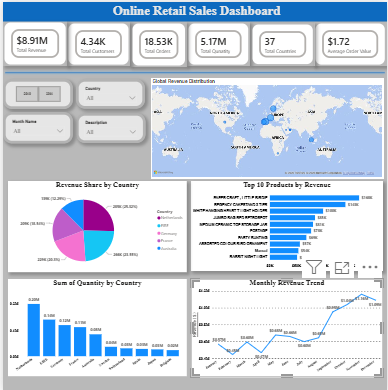

The dashboard page shown, as its layout file describes it:
{"tool":"powerbi","page":{"name":"DASHBOARD ","canvas":[1280,1300],"ordinal":5},"visuals":[{"type":"lineChart","title":" Monthly Revenue Trend ","fields":{"Y":["Sum(Online Retail.Revenue)"],"Category":["Online Retail.InvoiceDate.Variation.Date Hierarchy.Month"]},"box":[626,922,640,328],"z":0},{"type":"slicer","fields":{"Values":["Online Retail.Year"]},"box":[0,257,233,100],"z":1000},{"type":"barChart","title":"Top 10 Products by Revenue","fields":{"Category":["Online Retail.Description"],"Y":["Sum(Online Retail.Revenue)"]},"box":[626,596,640,300],"z":2000},{"type":"map","title":"Global Revenue Distribution","fields":{"Size":["Sum(Online Retail.Revenue)"],"Category":["Online Retail.Country"]},"box":[492,252,774,334],"z":3000},{"type":"textbox","box":[0,0,1280,65],"z":4000},{"type":"cardVisual","fields":{"Data":["Online Retail.Average Order Value"]},"box":[1038.2,68.2,241.8,147.3],"z":5000},{"type":"cardVisual","fields":{"Data":["Online Retail.Total Customers"]},"box":[214.5,65.5,210.9,147.3],"z":6000},{"type":"cardVisual","fields":{"Data":["Online Retail.Total Revenue"]},"box":[0,62.9,214.3,150],"z":7000},{"type":"cardVisual","fields":{"Data":["Online Retail.Total Qunatity"]},"box":[611.8,67.3,209.1,147.3],"z":8000},{"type":"cardVisual","fields":{"Data":["Online Retail.Total Orders"]},"box":[426.4,65.5,185.5,150],"z":9000},{"type":"slicer","fields":{"Values":["Online Retail.Description"]},"box":[244,370,232,100],"z":10000},{"type":"slicer","fields":{"Values":["Online Retail.Country"]},"box":[244,256,230,99],"z":11000},{"type":"slicer","fields":{"Values":["Online Retail.Month Name"]},"box":[0,365,233,105],"z":12000},{"type":"shape","box":[0,212.2,1280,44.4],"z":13000},{"type":"cardVisual","fields":{"Data":["Online Retail.Total Countries"]},"box":[826.4,70,211.8,142.7],"z":14000},{"type":"pieChart","title":"Revenue Share by Country","fields":{"Category":["Online Retail.Country"],"Y":["Sum(Online Retail.Revenue)"]},"box":[16,596,596,304],"z":15000},{"type":"clusteredColumnChart","title":"Sum of Quantity by Country","fields":{"Category":["Online Retail.Country"],"Y":["Sum(Online Retail.Quantity)"]},"box":[15.7,922.9,595.7,324.3],"z":16000}]}

Visuals, with their boxes in screenshot pixels (x1, y1, x2, y2), scaled from the page's 1280x1300 canvas onto the 388x390 screenshot:
" Monthly Revenue Trend " lineChart: bbox(190, 277, 384, 375)
slicer - Online Retail.Year: bbox(0, 77, 71, 107)
"Top 10 Products by Revenue" barChart: bbox(190, 179, 384, 269)
"Global Revenue Distribution" map: bbox(149, 76, 384, 176)
textbox: bbox(0, 0, 387, 20)
cardVisual - Online Retail.Average Order Value: bbox(315, 20, 387, 65)
cardVisual - Online Retail.Total Customers: bbox(65, 20, 129, 64)
cardVisual - Online Retail.Total Revenue: bbox(0, 19, 65, 64)
cardVisual - Online Retail.Total Qunatity: bbox(185, 20, 249, 64)
cardVisual - Online Retail.Total Orders: bbox(129, 20, 185, 65)
slicer - Online Retail.Description: bbox(74, 111, 144, 141)
slicer - Online Retail.Country: bbox(74, 77, 144, 106)
slicer - Online Retail.Month Name: bbox(0, 110, 71, 141)
shape: bbox(0, 64, 387, 77)
cardVisual - Online Retail.Total Countries: bbox(251, 21, 315, 64)
"Revenue Share by Country" pieChart: bbox(5, 179, 186, 270)
"Sum of Quantity by Country" clusteredColumnChart: bbox(5, 277, 185, 374)
